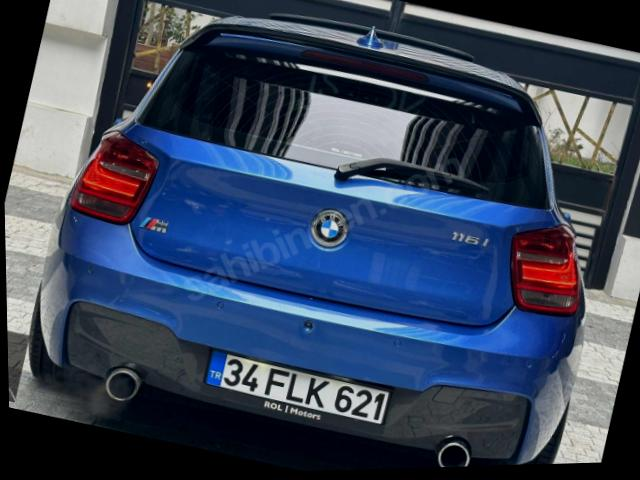plaka: (205, 351, 389, 424)
